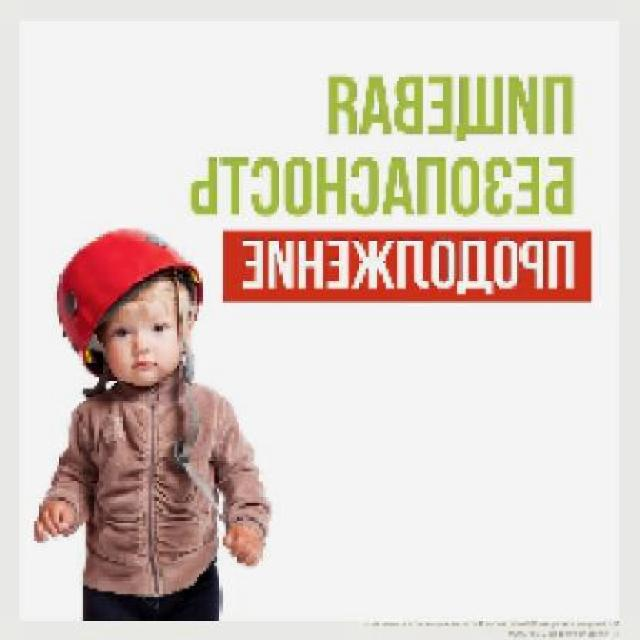child: (33, 271, 273, 620)
